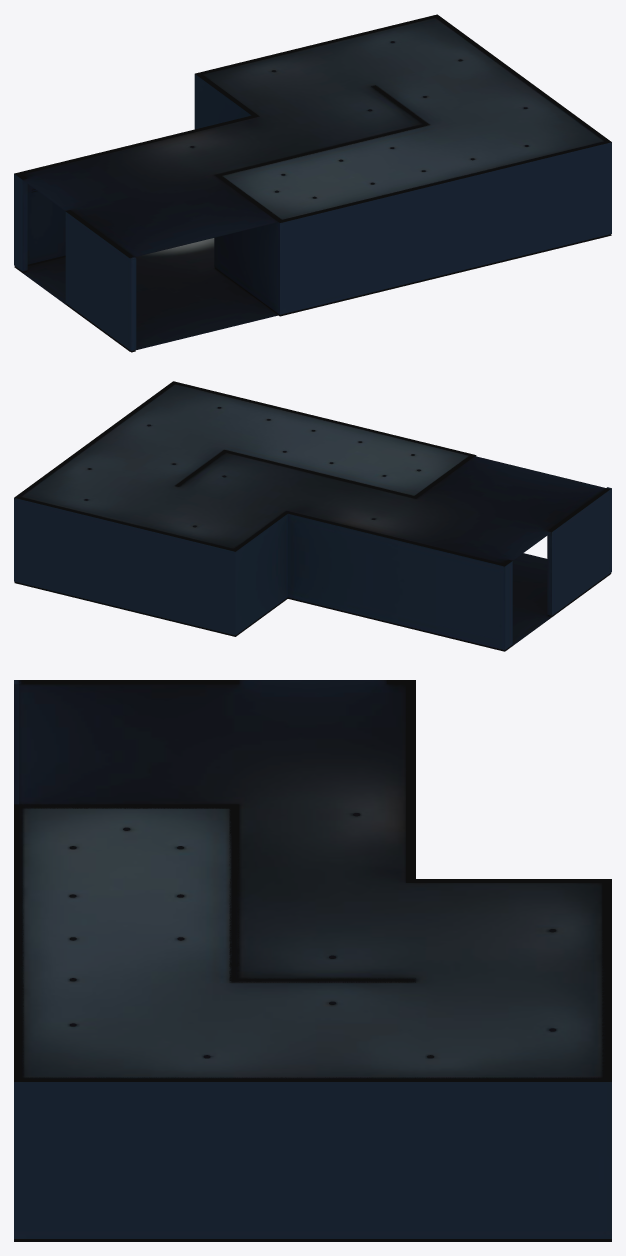
The model's file is gallery-mobile.glb.
3 views of the same model, one above another, from view 1: azimuth 30°, elevation 25°; view 2: azimuth 150°, elevation 25°; view 3: azimuth 270°, elevation 25° (orthographic). The views are drawn at different scales.
Visible parts, largest first — view 1: Gallery_Environment; view 2: Gallery_Environment; view 3: Gallery_Environment.
Boxes of the visible parts, x1=… form: Gallery_Environment: x1=14, y1=14, x2=611, y2=352; Gallery_Environment: x1=14, y1=381, x2=611, y2=651; Gallery_Environment: x1=14, y1=680, x2=611, y2=1241.
Bounding box in the file's own units: 24.25 × 4.51 × 15.25.
17 materials, 17 textured.
